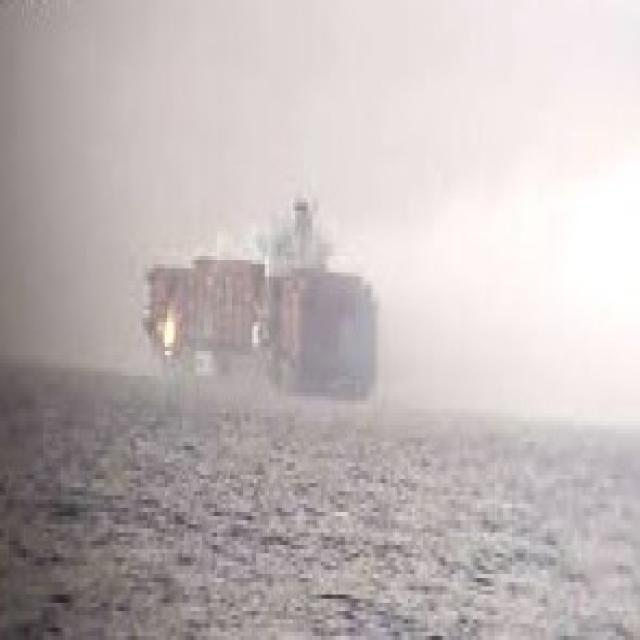cargoship: (134, 195, 373, 396)
